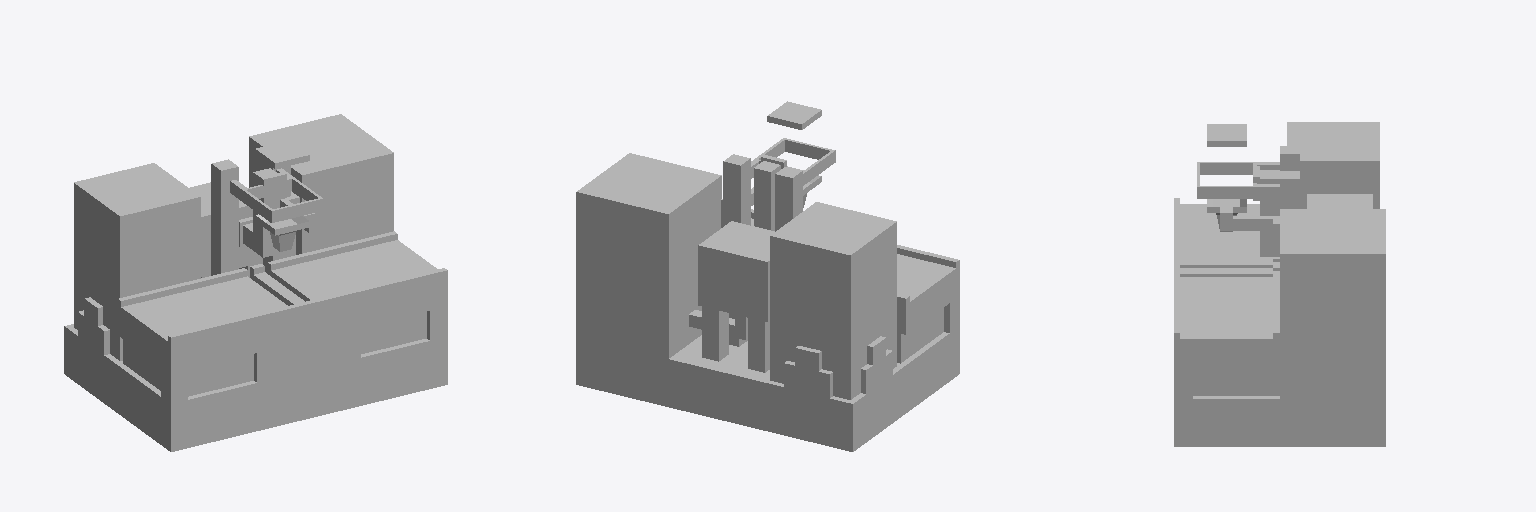
Rendered from bottlingMachine.obj.
3 renders of one model, left to right at view 1: azimuth 30°, elevation 25°; view 2: azimuth 150°, elevation 25°; view 3: azimuth 270°, elevation 25°, orthographic.
Parts seen in each view (by area): view 1: base, conveyors; view 2: base, conveyors; view 3: base, conveyors.
Part boxes in pixels (bbox=[...]): base: bbox=[64, 114, 447, 451]; conveyors: bbox=[121, 240, 436, 352]; base: bbox=[576, 101, 959, 451]; conveyors: bbox=[751, 218, 955, 313]; base: bbox=[1174, 122, 1385, 446]; conveyors: bbox=[1180, 204, 1272, 350].
Bounding box in the file's own units: 3 × 2.56 × 2.